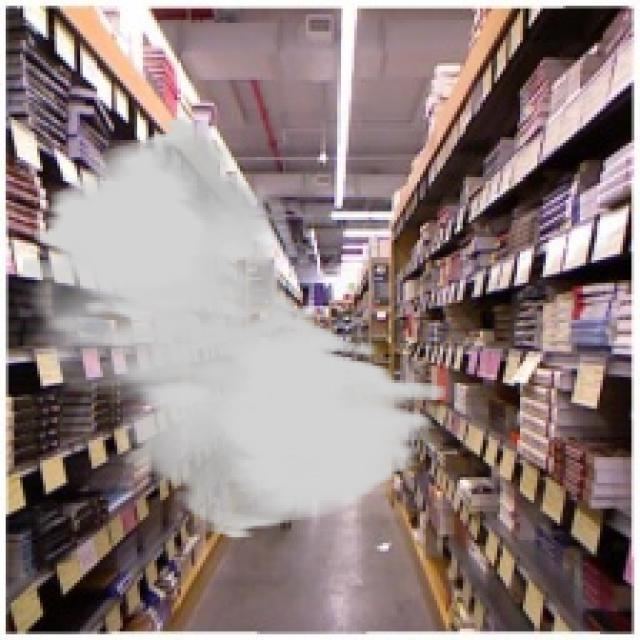Smoke: (20, 115, 446, 540)
